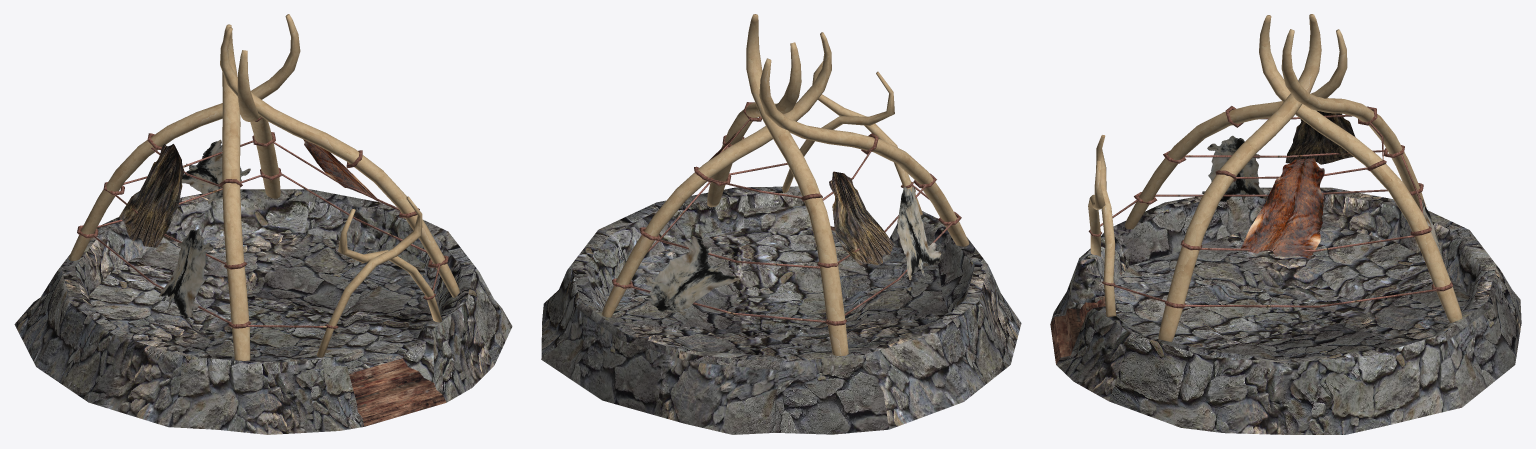
File: boneskin_hut4.FBX
The picture shows the model from 3 angles, left to right: view 1: azimuth 30°, elevation 25°; view 2: azimuth 150°, elevation 25°; view 3: azimuth 270°, elevation 25°; orthographic projection.
Visible parts, largest first — view 1: boneskin_hut4; view 2: boneskin_hut4; view 3: boneskin_hut4.
Part boxes in pixels (bbox=[...]): boneskin_hut4: bbox=[14, 14, 512, 434]; boneskin_hut4: bbox=[541, 14, 1021, 434]; boneskin_hut4: bbox=[1050, 14, 1521, 434].
Size of the model in its own units: 65.16 by 47.3 by 63.79.
